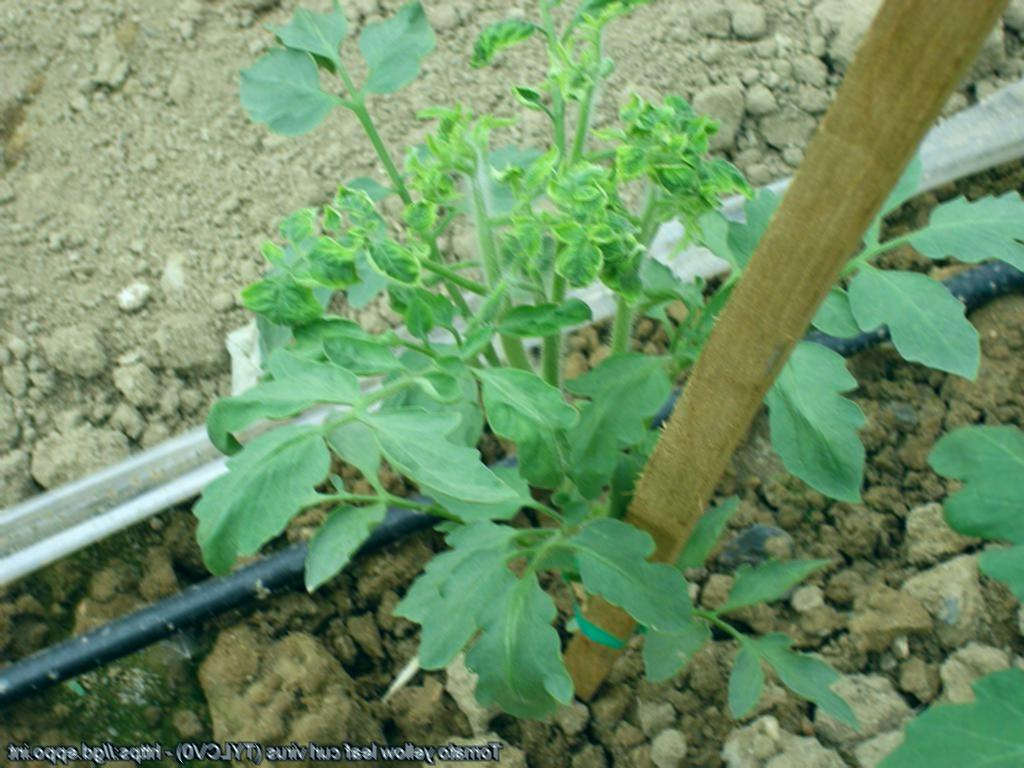Tomato leaf: (198, 422, 329, 587), (333, 385, 502, 498), (558, 341, 680, 488), (464, 567, 577, 724), (771, 337, 873, 499), (859, 258, 983, 383), (572, 517, 696, 640), (403, 547, 517, 670), (898, 176, 1018, 281), (342, 1, 436, 114), (236, 46, 338, 142), (301, 496, 389, 590), (711, 549, 831, 613), (320, 331, 408, 381)
